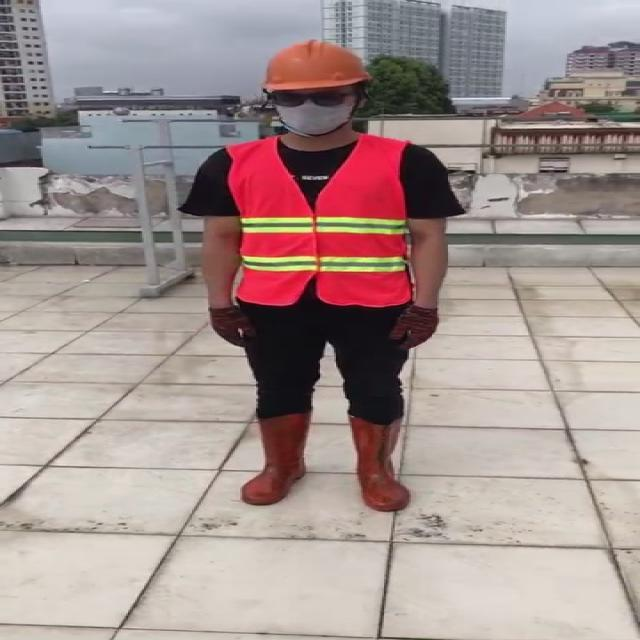boots: (344, 412, 412, 512), (242, 414, 313, 506)
gloves: (206, 308, 256, 349), (390, 310, 438, 350)
helmet: (182, 38, 456, 514), (255, 36, 371, 94)
vest: (231, 136, 411, 306)
